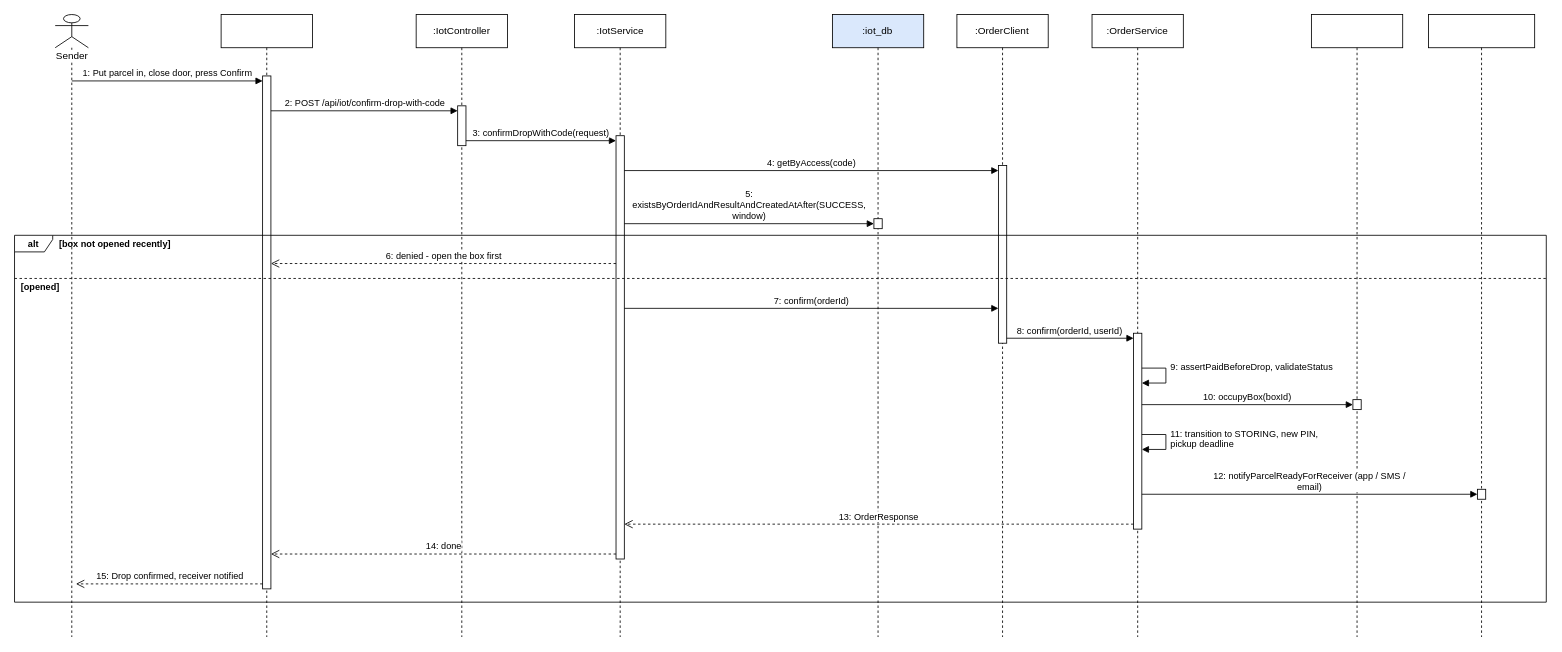
This 1562x652 diagram has some shape labels left out. The box of each missing label's shape, as (x1, y1, x2, y2) in pixels:
:KioskScreen: (220, 14, 312, 637)
:LockerClient: (1311, 14, 1403, 637)
:NotificationClient: (1428, 14, 1535, 637)
